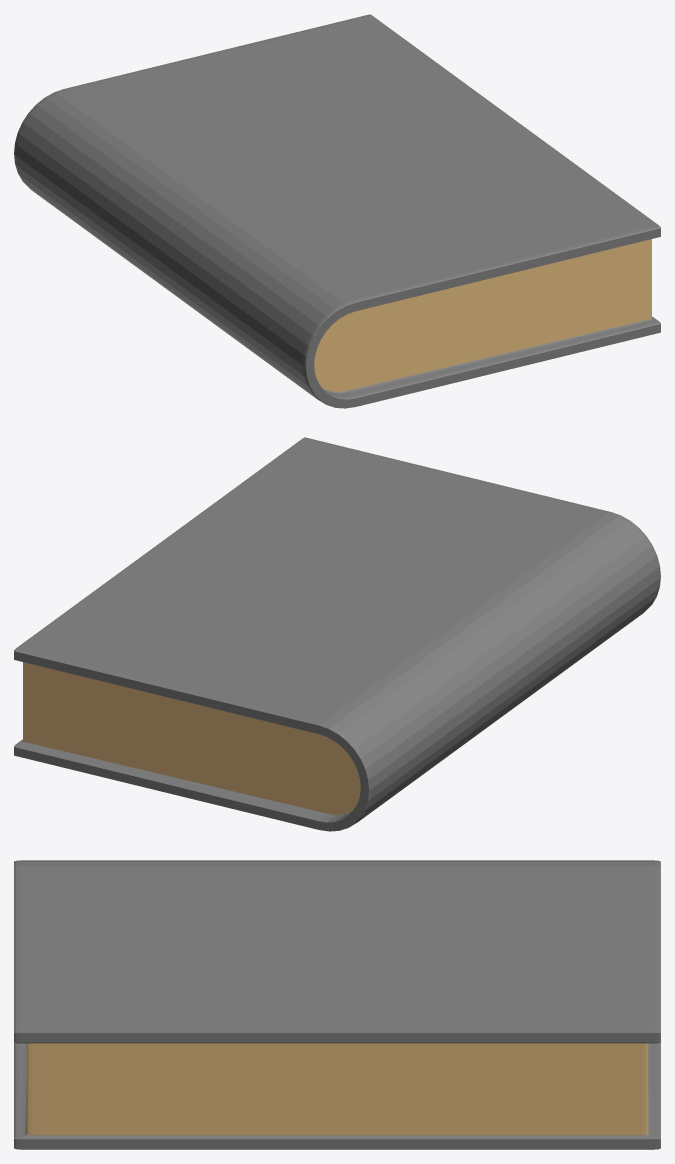
The model's file is BookGray.fbx.
3 renders of one model, top to bottom at view 1: azimuth 30°, elevation 25°; view 2: azimuth 150°, elevation 25°; view 3: azimuth 270°, elevation 25°, orthographic. The views are drawn at different scales.
Visible parts, largest first — view 1: Book.005; view 2: Book.005; view 3: Book.005.
Boxes of the visible parts, bbox=[...] form: Book.005: bbox=[14, 14, 660, 408]; Book.005: bbox=[14, 437, 660, 831]; Book.005: bbox=[14, 860, 660, 1149].
Bounding box in the file's own units: 702 × 200 × 995.
